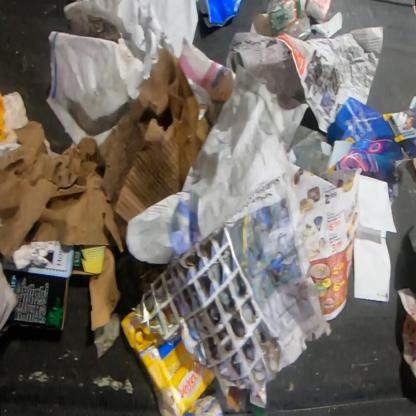cardboard: (0, 46, 213, 278), (119, 305, 216, 416), (3, 244, 107, 334), (88, 245, 122, 333), (2, 244, 75, 278), (0, 90, 30, 154)
rigid_plastic: (197, 0, 244, 29)
soft_plastic: (265, 0, 312, 38)
